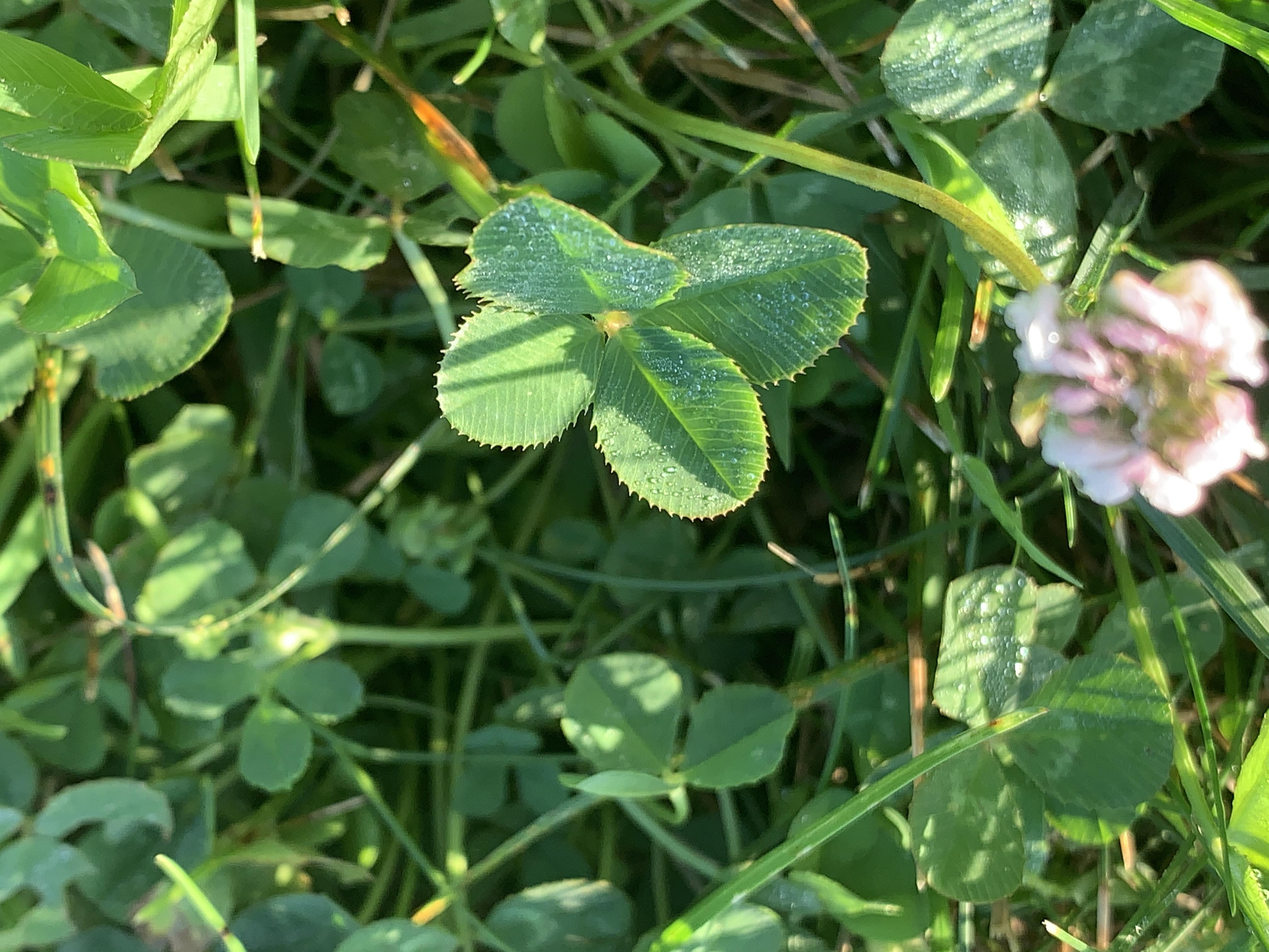4-Leaf-Clovers: (584, 327, 1004, 650)
